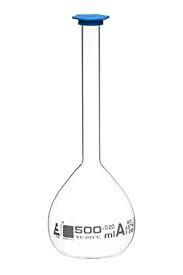Volumetric flask: (42, 7, 139, 265)
